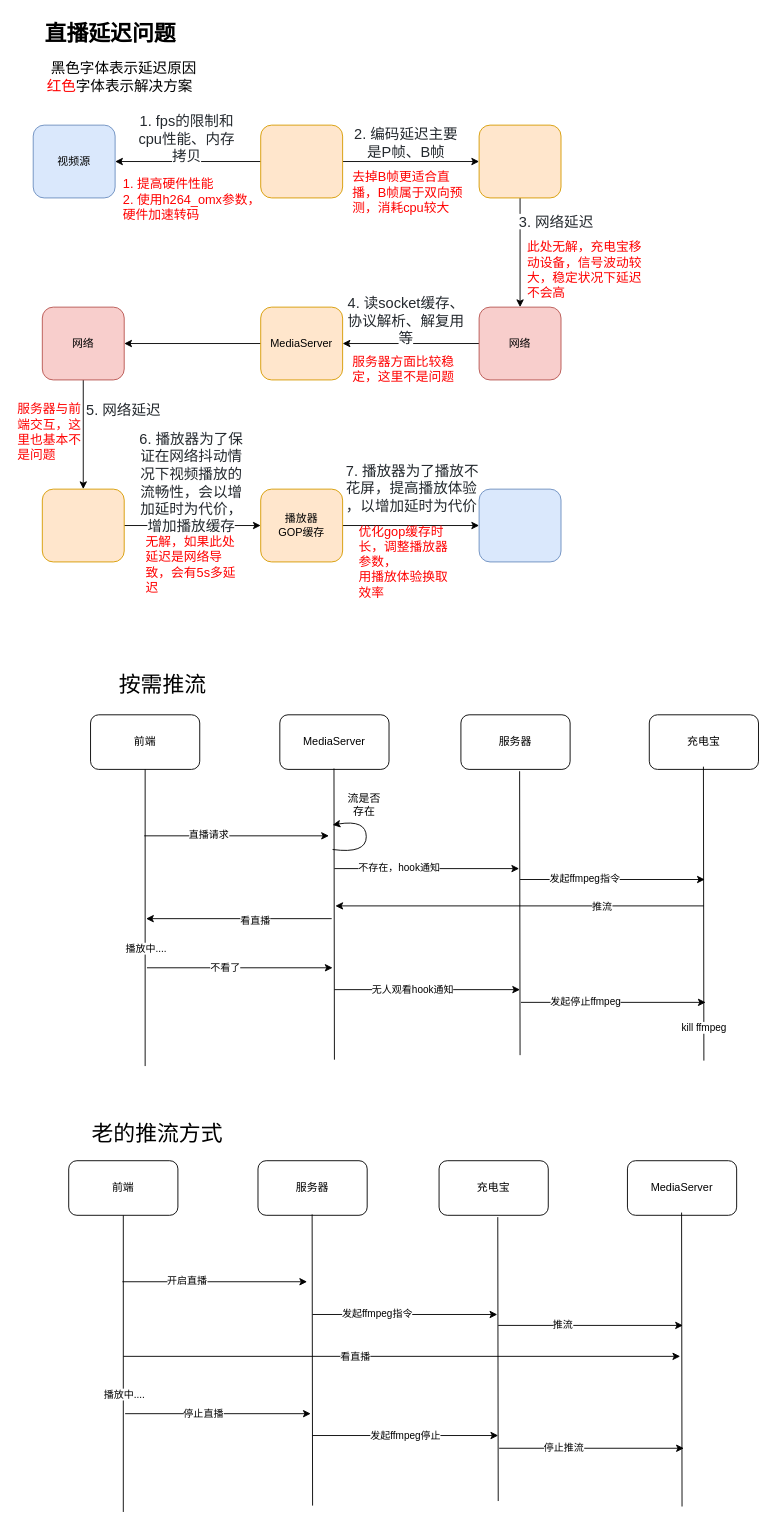
The diagram is 774 pixels wide and 1529 high, and some of its shapes have lost their labels. Here are the shapes that lost their labels. From the top down, the centre of each, then its label:
At pixel 301 161: "采集(ffmpeg)".
At pixel 519 161: "编码".
At pixel 82 525: "播放器".
At pixel 519 525: "播放".
